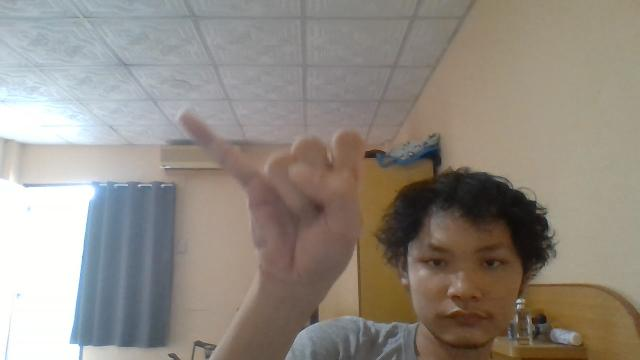Right: (180, 109, 372, 283)
